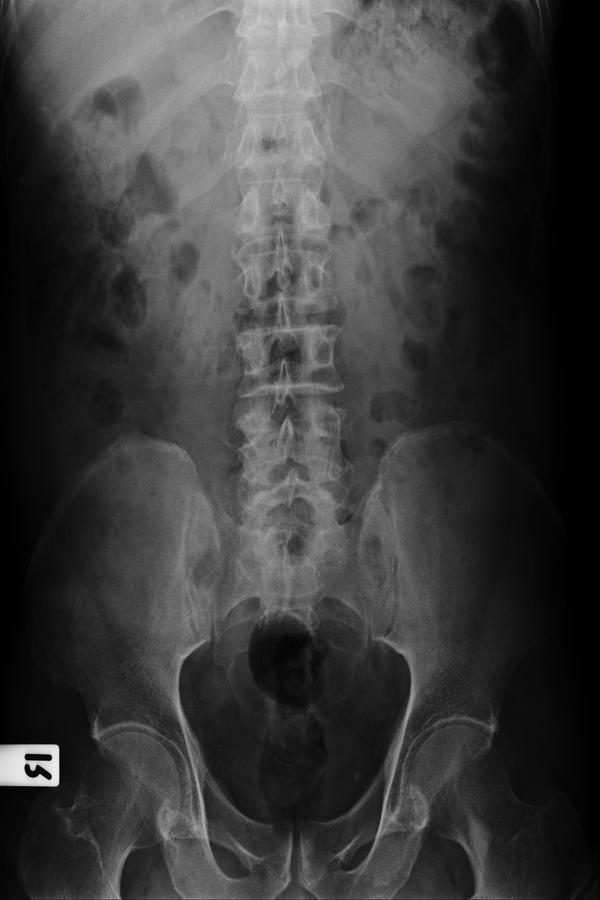not lumbar scoliosis: (223, 171, 350, 581)
